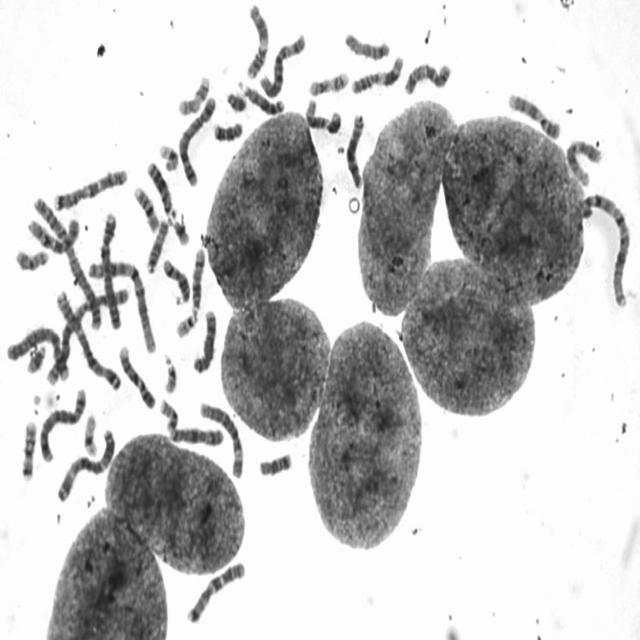A1: (85, 254, 158, 355), (578, 188, 633, 310)
A2: (29, 192, 102, 332), (51, 282, 126, 392)
A3: (53, 283, 124, 392), (54, 423, 118, 504)
B4: (4, 322, 71, 384), (96, 206, 122, 332)
B5: (37, 382, 88, 464), (176, 91, 217, 188)
C10: (25, 212, 82, 256), (402, 57, 454, 97)
C11: (348, 50, 406, 96), (243, 0, 270, 80)
C12: (563, 134, 604, 186), (302, 94, 344, 135)
C6: (197, 396, 246, 481), (257, 29, 307, 99)
C7: (183, 556, 248, 625), (51, 163, 129, 212)
C8: (343, 108, 367, 190), (190, 304, 218, 374)
C9: (505, 87, 563, 141), (116, 339, 158, 411)
D13: (144, 155, 178, 220), (236, 76, 286, 116)
D14: (161, 253, 192, 304), (189, 243, 207, 313)
D15: (342, 27, 392, 61), (144, 215, 170, 275)
E16: (131, 180, 161, 234), (18, 416, 38, 482)
E17: (175, 70, 212, 118), (306, 65, 351, 98)
E18: (256, 447, 294, 479), (211, 116, 244, 143)
F19: (80, 408, 100, 458), (156, 138, 180, 172)
F20: (13, 244, 51, 272), (157, 394, 180, 432)
G21: (167, 210, 192, 247), (24, 340, 48, 375)
G22: (172, 306, 200, 339), (161, 350, 179, 395)
X: (168, 421, 225, 447)
Y: (224, 86, 249, 114)
